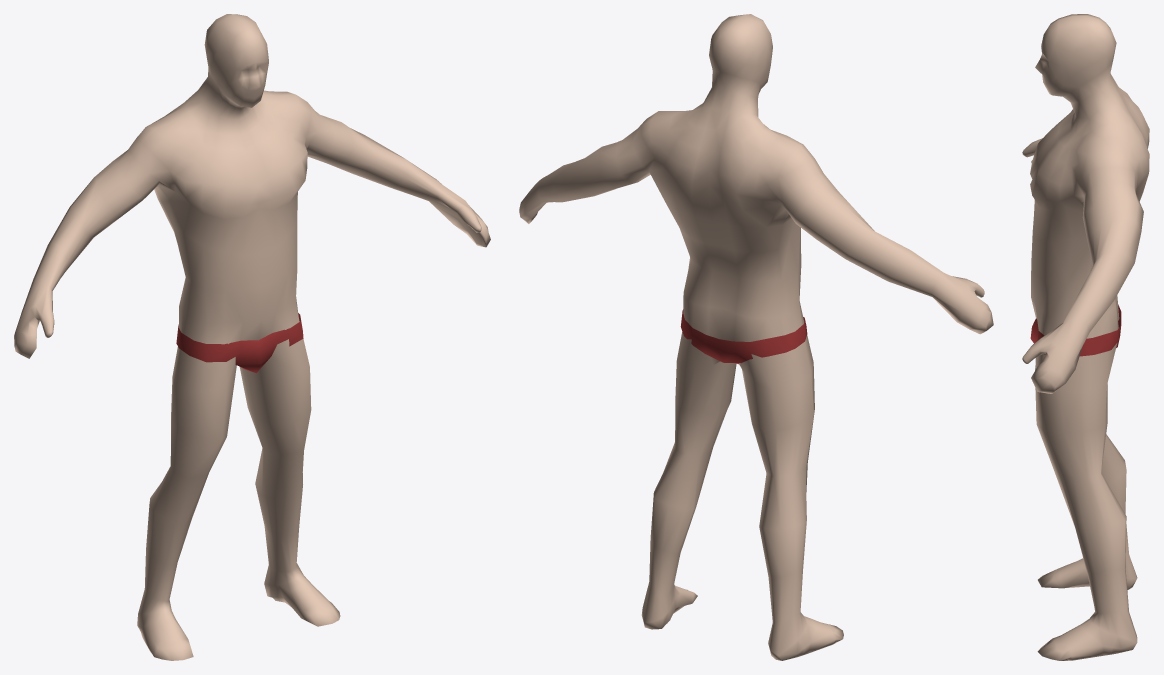
File: Brad super sauveteur.fbx
The picture shows the model from 3 angles, left to right: view 1: azimuth 30°, elevation 25°; view 2: azimuth 150°, elevation 25°; view 3: azimuth 270°, elevation 25°; orthographic projection.
Visible parts, largest first — view 1: Brad; view 2: Brad; view 3: Brad.
Part boxes in pixels (x1=…): Brad: x1=14, y1=14, x2=490, y2=660; Brad: x1=519, y1=14, x2=993, y2=660; Brad: x1=1022, y1=14, x2=1149, y2=660.
Bounding box in the file's own units: 161 × 200 × 38.26.
